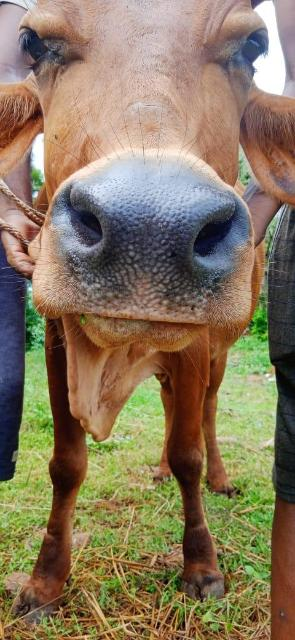Muzzle: (72, 178, 213, 322)
